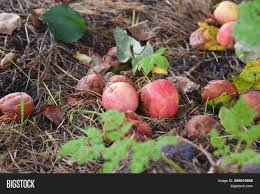damaged_apple: (189, 20, 240, 54), (139, 80, 182, 120), (102, 82, 140, 114), (199, 80, 239, 109), (185, 111, 219, 144), (1, 90, 33, 123), (77, 74, 107, 99)
